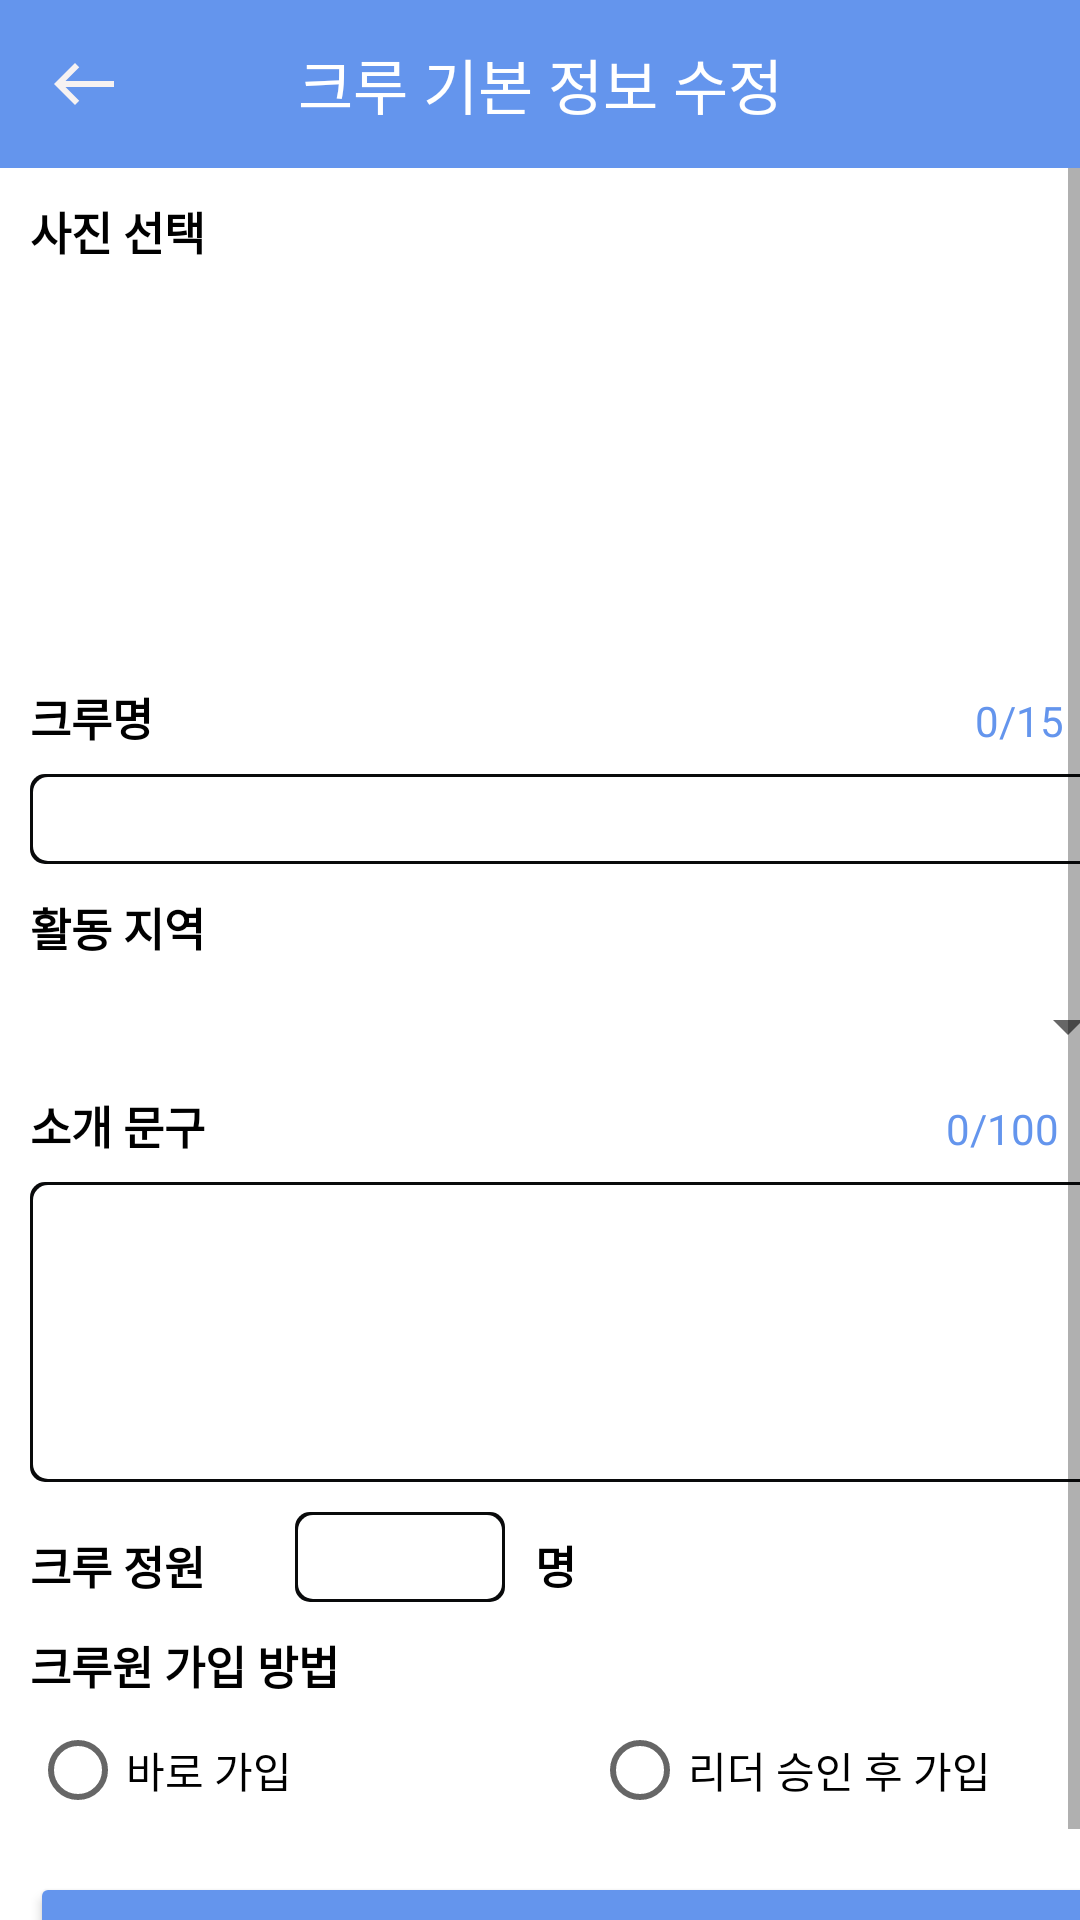

Where icons sit on this 1080 x 1920 app screen, as (x1, y1, x2, y2):
west: (54, 63, 114, 105)
